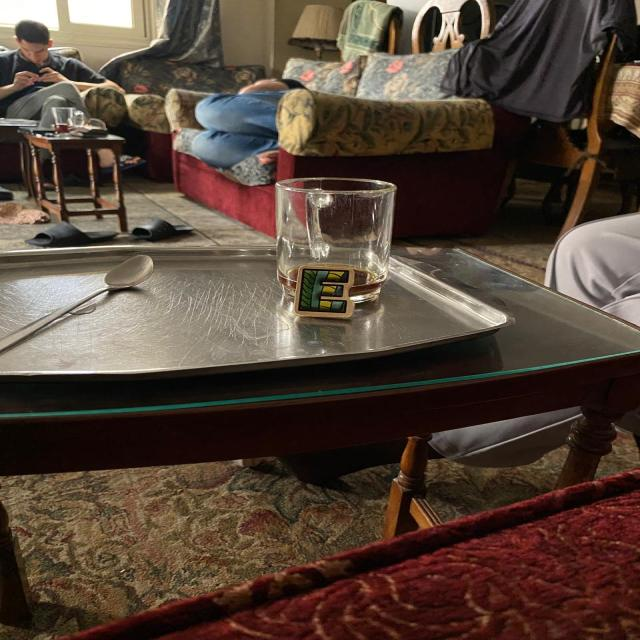E: (294, 265, 357, 319)
